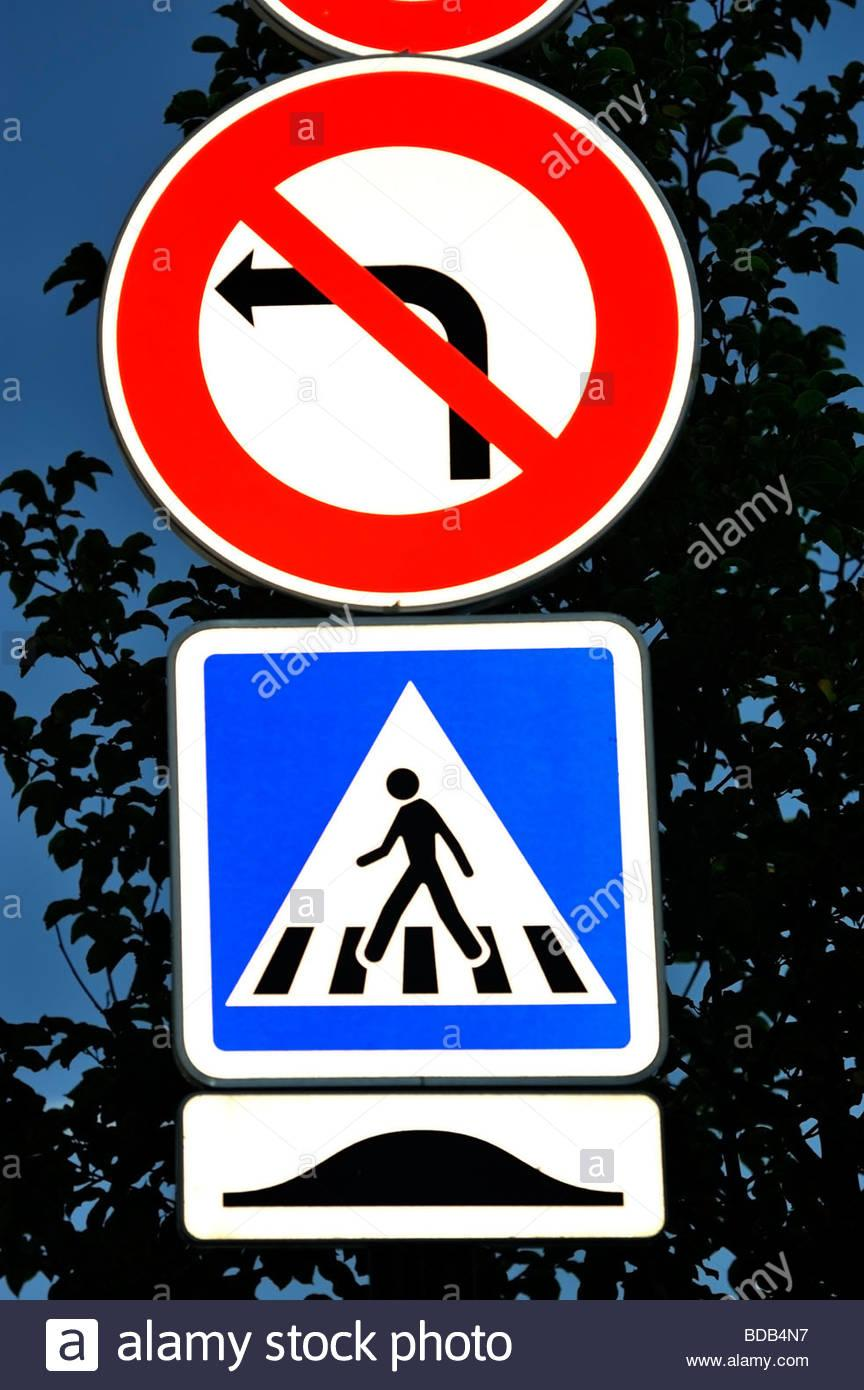no_left_turn: (95, 53, 702, 607)
